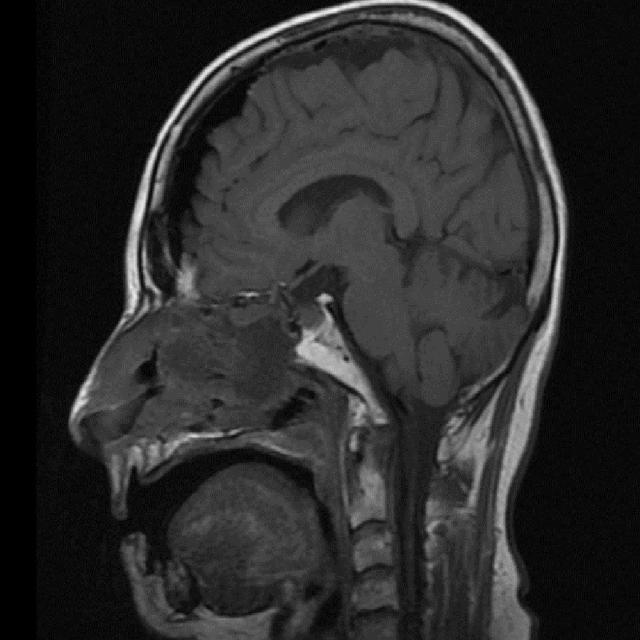pituitary: (224, 268, 353, 341)
